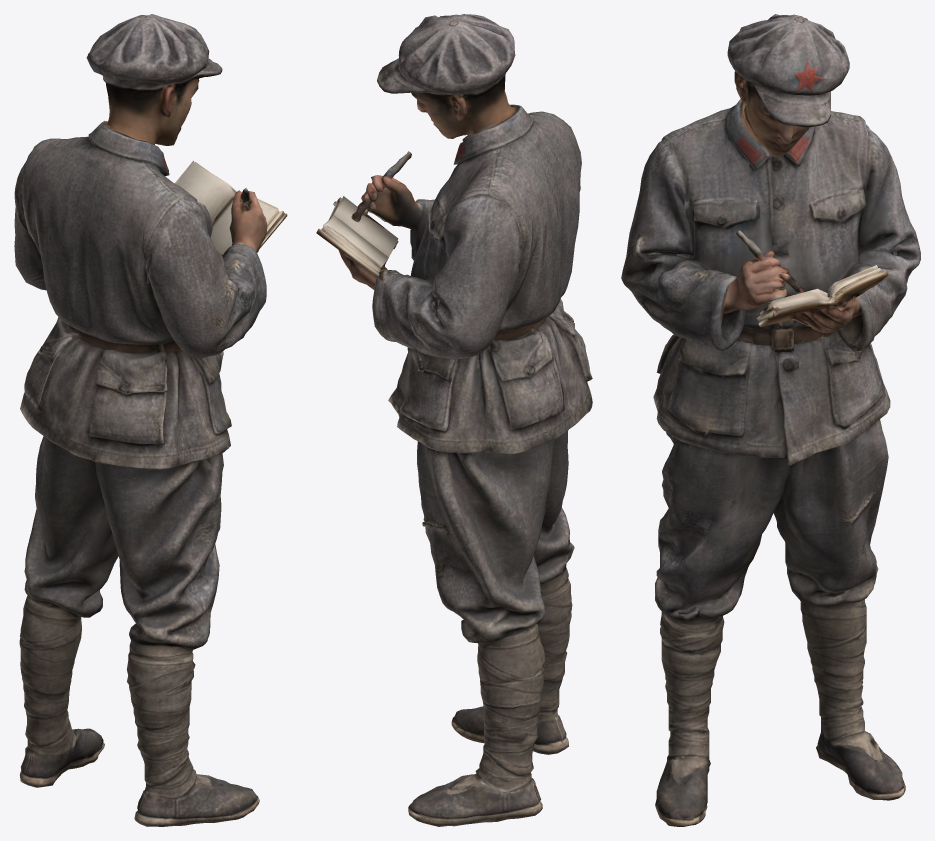
File: journal-writer.glb
3 views of the same model, side by side, from view 1: azimuth 30°, elevation 25°; view 2: azimuth 150°, elevation 25°; view 3: azimuth 270°, elevation 25° (orthographic). The views are drawn at different scales.
Visible parts, largest first — view 1: Supplied journal-writer; view 2: Supplied journal-writer; view 3: Supplied journal-writer.
Boxes of the visible parts, x1=… form: Supplied journal-writer: x1=14, y1=14, x2=287, y2=826; Supplied journal-writer: x1=316, y1=14, x2=592, y2=826; Supplied journal-writer: x1=621, y1=14, x2=920, y2=826.
Size of the model in its own units: 0.9548 by 2.89 by 1.
1 material, 1 textured.
